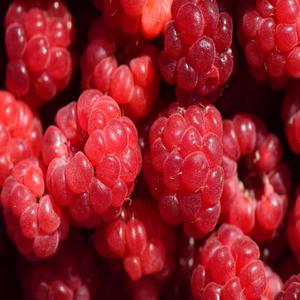raspb: (7, 1, 300, 300)
